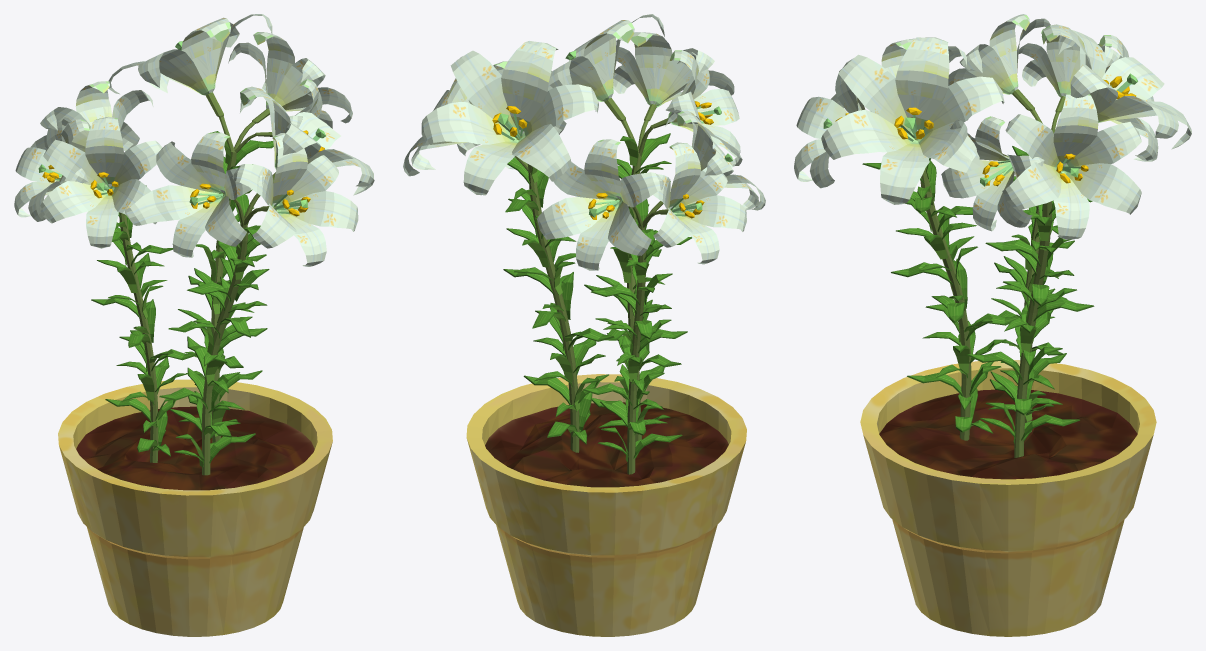
The model's file is Lilium_Perfect_End.glb.
3 views of the same model, side by side, from view 1: azimuth 30°, elevation 25°; view 2: azimuth 150°, elevation 25°; view 3: azimuth 270°, elevation 25° (orthographic). The views are drawn at different scales.
Parts seen in each view (by area): view 1: Plane.019, Pot; view 2: Plane.019, Pot; view 3: Plane.019, Pot.
Boxes of the visible parts, left/top/right/bottom form: Plane.019: left=14, top=14, right=374, bottom=475; Pot: left=58, top=379, right=332, bottom=636; Plane.019: left=403, top=14, right=765, bottom=474; Pot: left=466, top=374, right=746, bottom=636; Plane.019: left=794, top=14, right=1191, bottom=457; Pot: left=860, top=360, right=1156, bottom=636.
Bounding box in the file's own units: 2.7 × 4.51 × 2.75.
7 materials, 3 textured.
